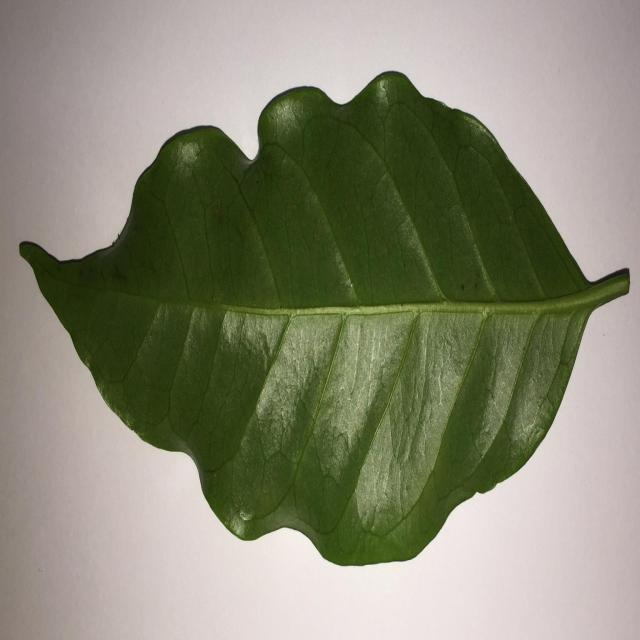Sanas: (18, 71, 632, 571)
